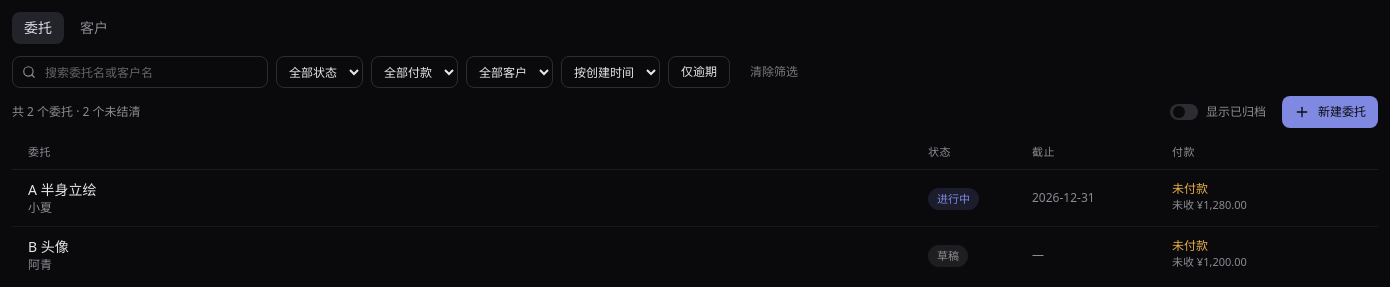
it: 委托筛选与计数 › 状态筛选生效，清除筛选后恢复并保留「显示已归档」
This screenshot has width=1390, height=287.
Check: the text "A 半身立绘" is shown, box [28,180,97,200]
Select "进行中" in the dropdown named "状态筛选": (320, 72) [276,56,363,88]
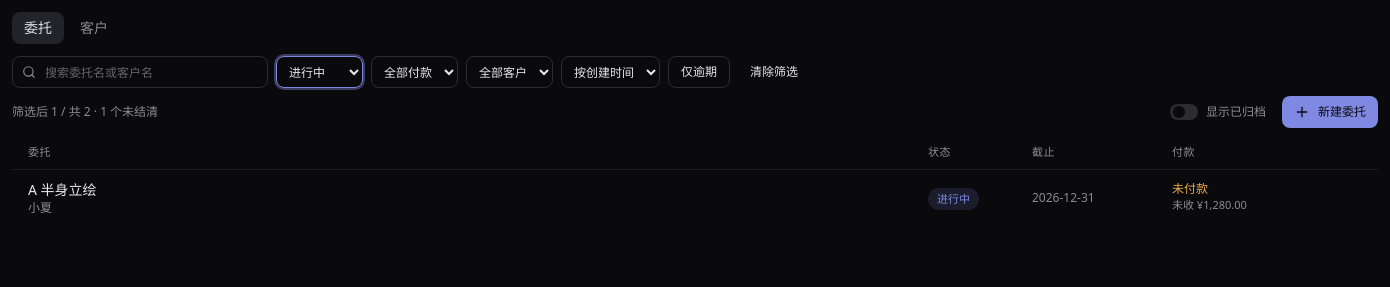
Check: the button "B 头像" is gone
Check: the text with test id "commissions-summary" shows "筛选后 1 / 共 2", box [12,103,158,120]
Click the button "清除筛选": click(774, 72) [738,56,810,88]
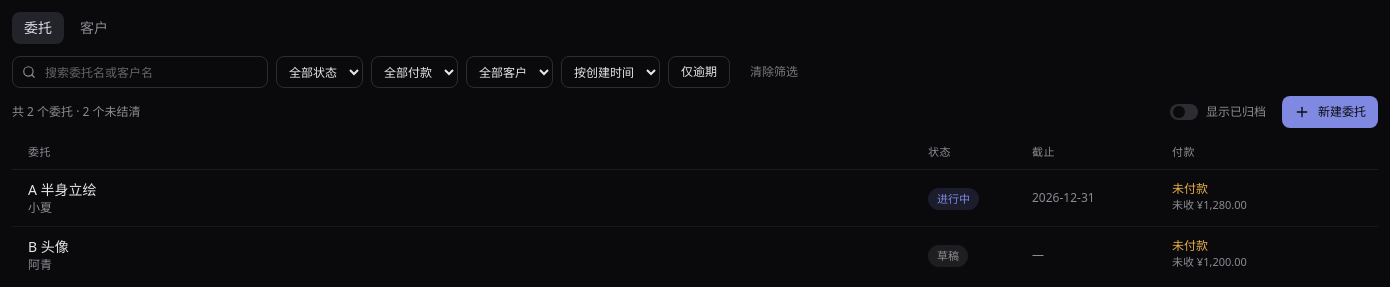
Check: the text "B 头像" is shown, box [28,236,69,256]
Check: the text with test id "commissions-summary" shows "共 2 个委托", box [12,103,140,120]
